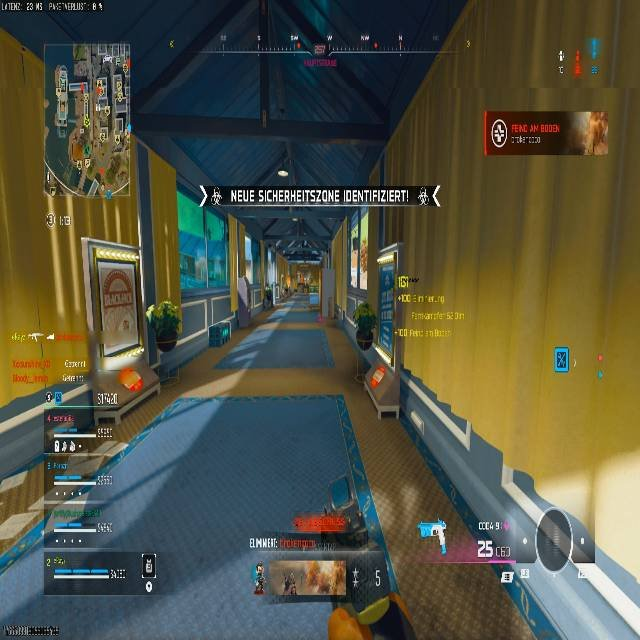player: (351, 300, 378, 351)
